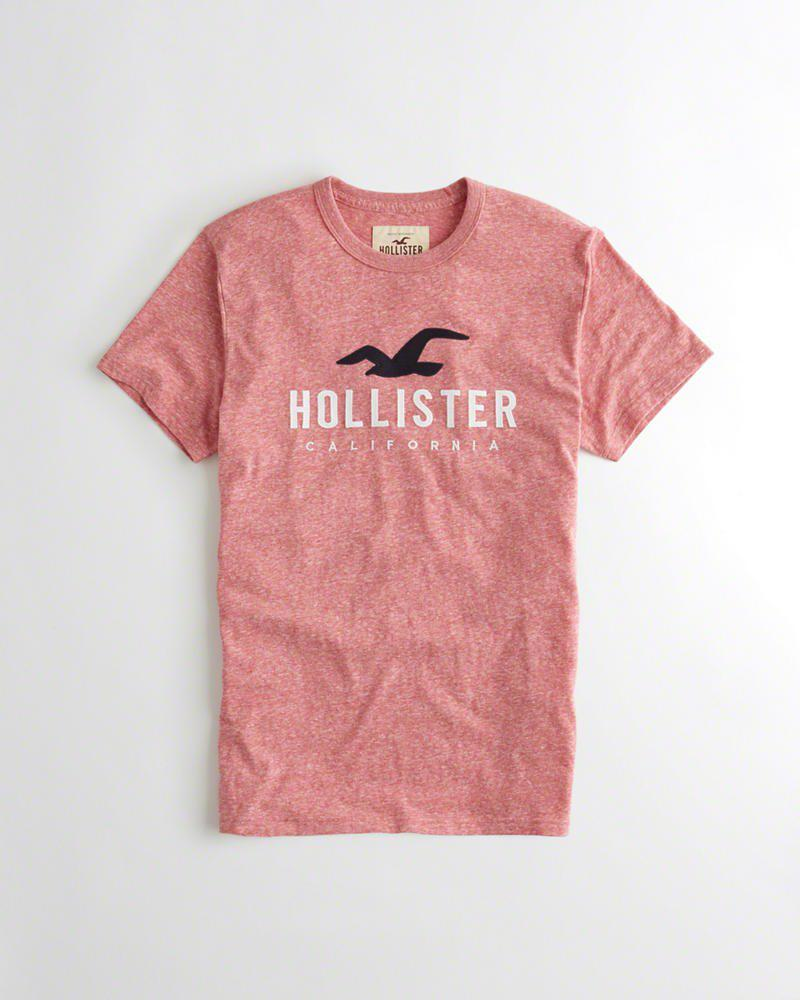teeshirt: (117, 151, 718, 884)
